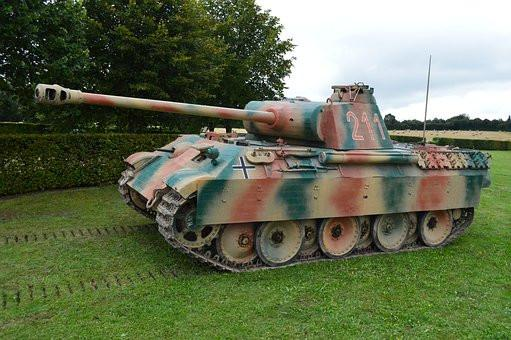tank: (33, 83, 489, 275)
